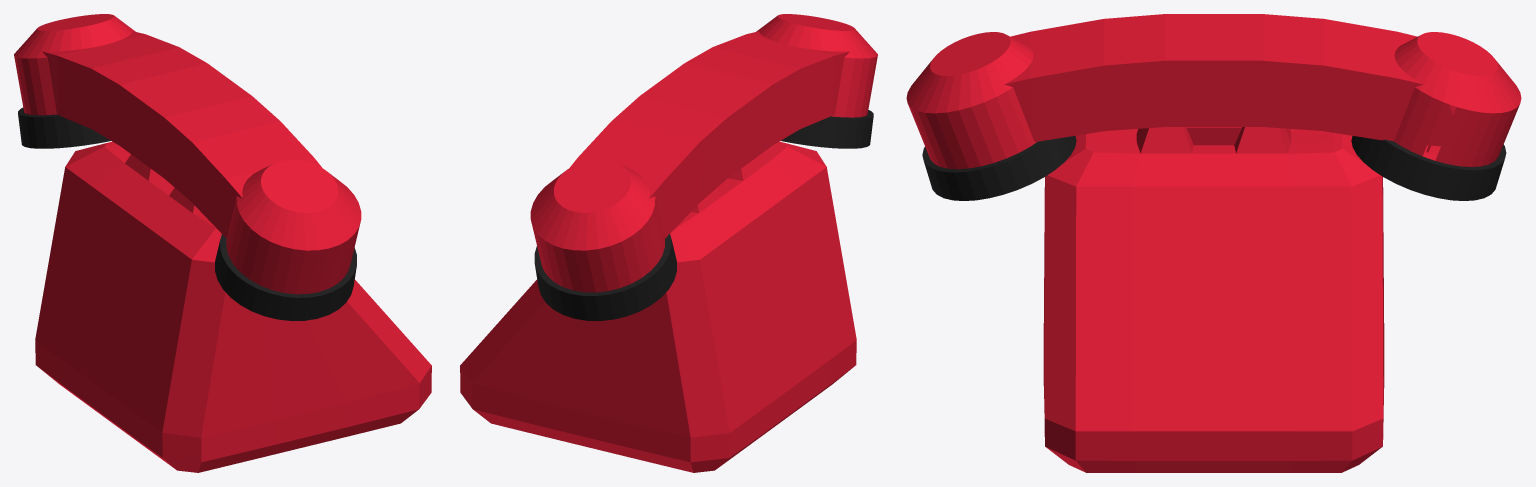
File: phone_1.fbx
3 views of the same model, side by side, from view 1: azimuth 30°, elevation 25°; view 2: azimuth 150°, elevation 25°; view 3: azimuth 270°, elevation 25° (orthographic). The views are drawn at different scales.
Parts seen in each view (by area): view 1: Cube.004; view 2: Cube.004; view 3: Cube.004.
Boxes of the visible parts, left/top/right/bottom form: Cube.004: left=14, top=14, right=431, bottom=472; Cube.004: left=460, top=14, right=877, bottom=472; Cube.004: left=906, top=14, right=1521, bottom=472.
Size of the model in its own units: 212 by 240 by 383.
